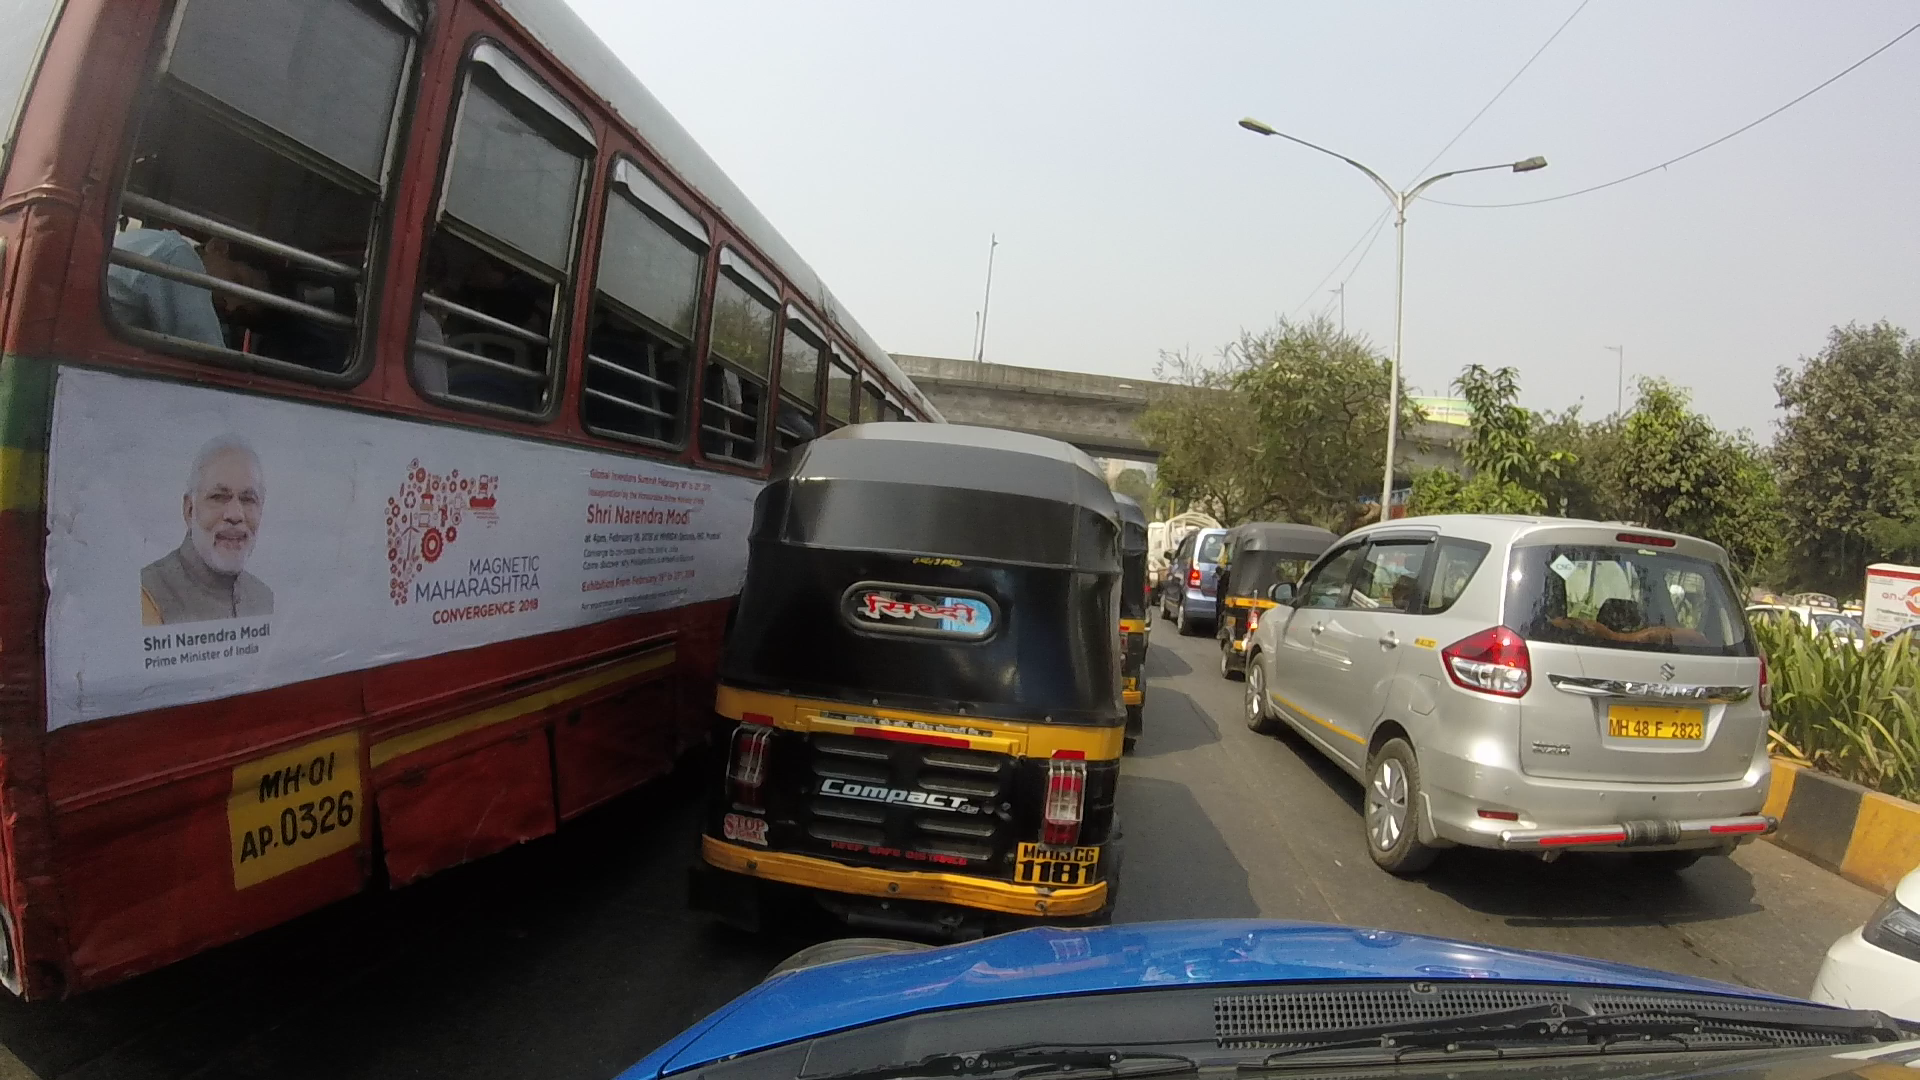bus: (1, 4, 953, 1010)
car: (1265, 520, 1815, 922), (1158, 516, 1244, 638)
rickshaw: (724, 419, 1127, 934), (1101, 484, 1180, 738), (1207, 513, 1324, 659)
